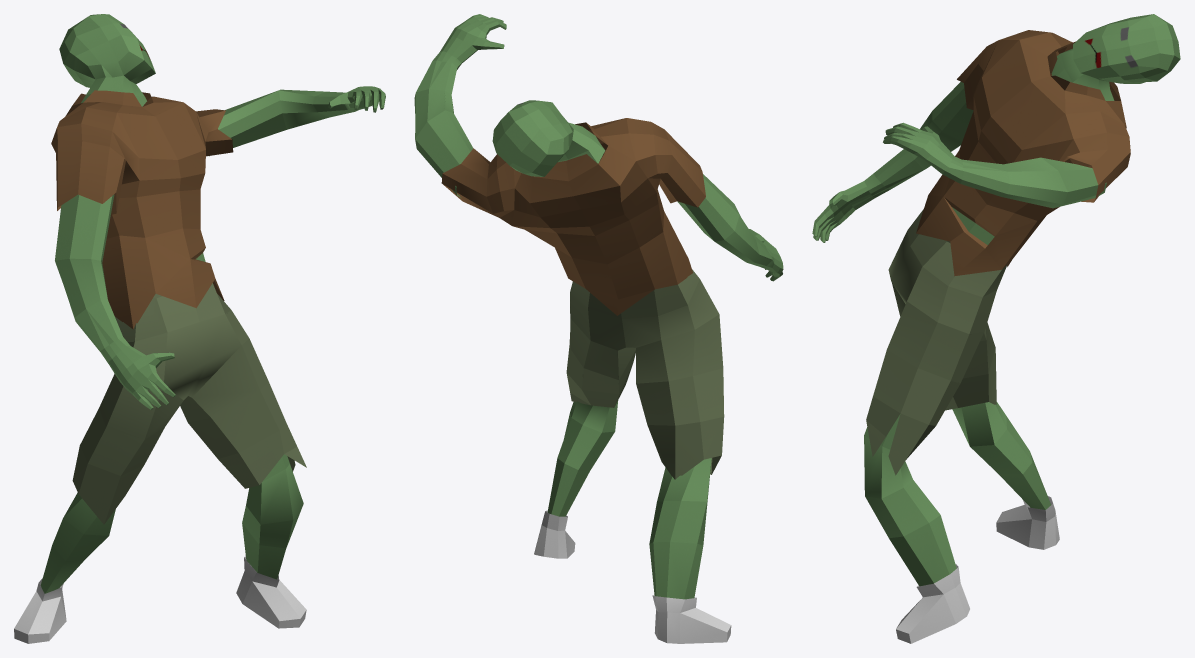
Rendered from ZombieDead(7).obj.
3 renders of one model, left to right at view 1: azimuth 30°, elevation 25°; view 2: azimuth 150°, elevation 25°; view 3: azimuth 270°, elevation 25°, orthographic. The views are drawn at different scales.
Visible parts, largest first — view 1: Object001; view 2: Object001; view 3: Object001.
Boxes of the visible parts, x1=… form: Object001: x1=14, y1=14, x2=385, y2=643; Object001: x1=414, y1=14, x2=783, y2=643; Object001: x1=812, y1=14, x2=1180, y2=643.
Bounding box in the file's own units: 32.75 × 52.75 × 30.29.
